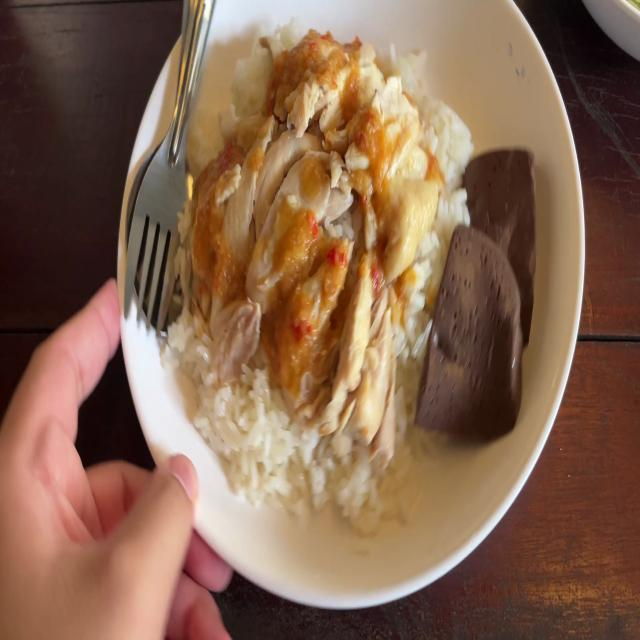boiled_chicken: (212, 56, 400, 372)
boiled_chicken_blood_jelly: (423, 224, 521, 439), (461, 152, 545, 343)
chicken_rice: (176, 18, 552, 523)
